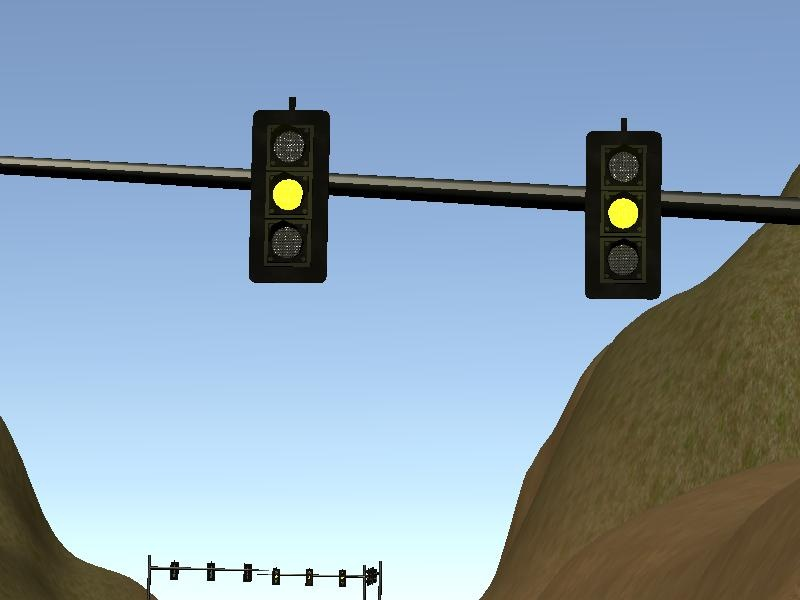yellow: (238, 97, 339, 293), (575, 116, 673, 309)
